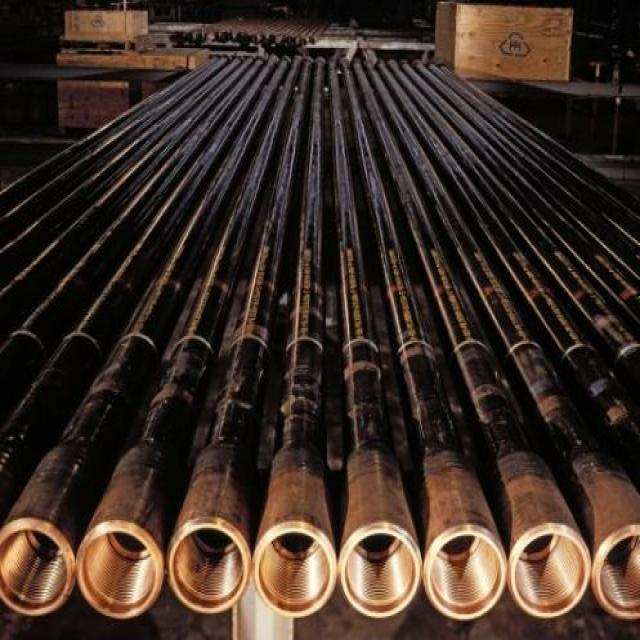pipe: (77, 521, 164, 620), (339, 523, 423, 620), (424, 526, 507, 622), (255, 522, 337, 618), (510, 524, 592, 620), (170, 519, 250, 614), (0, 519, 74, 616)
